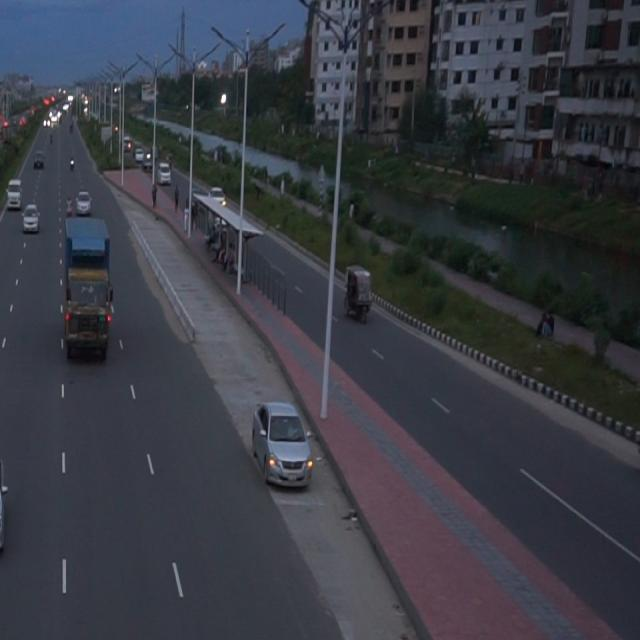van: (50, 203, 123, 385)
